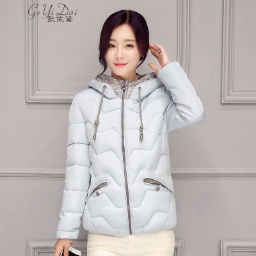face: (95, 7, 156, 77)
